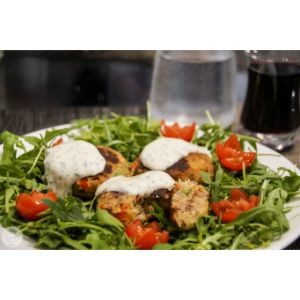tuna_brain food: (50, 129, 217, 234)
